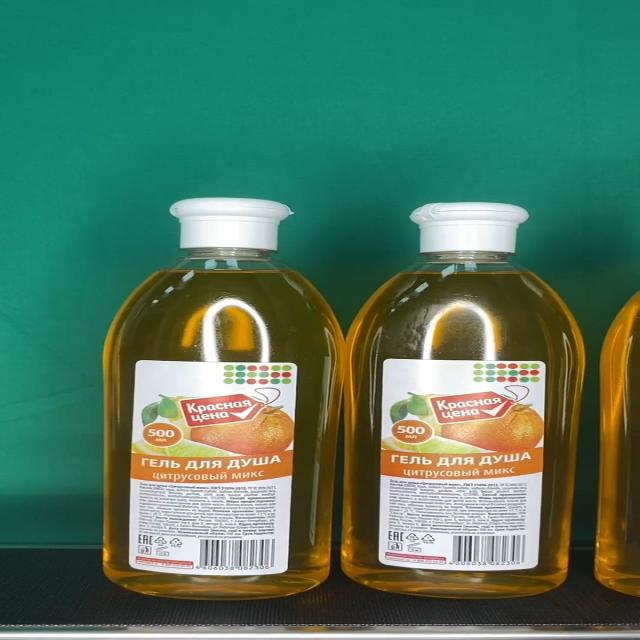Bottle: (100, 198, 344, 601), (344, 202, 586, 600)
Cap: (408, 202, 529, 253), (170, 198, 292, 248)
